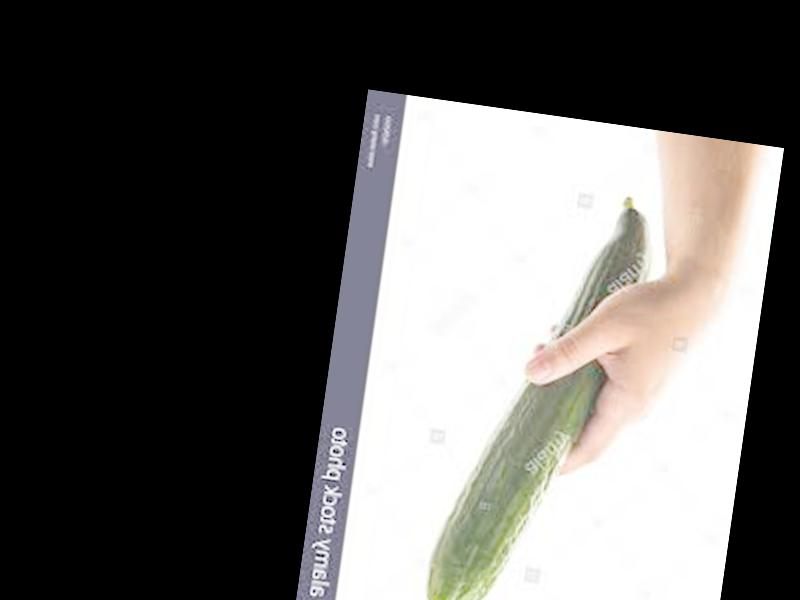Cucumber: (421, 174, 659, 600)
